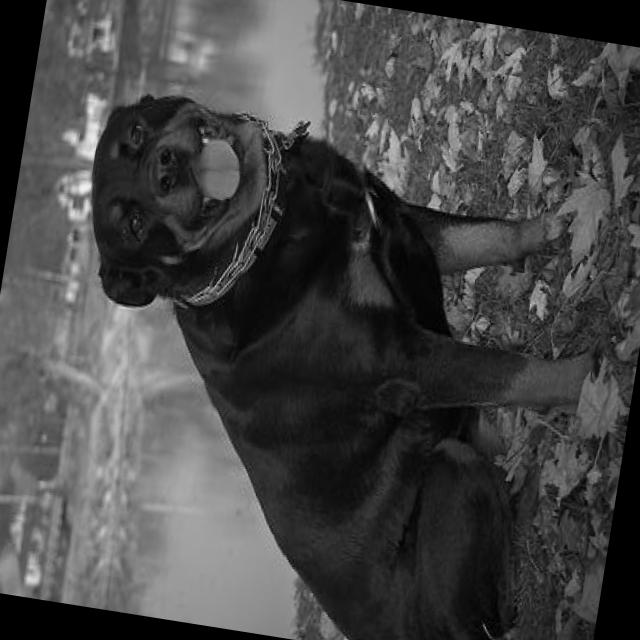sitting: (13, 66, 640, 640)
